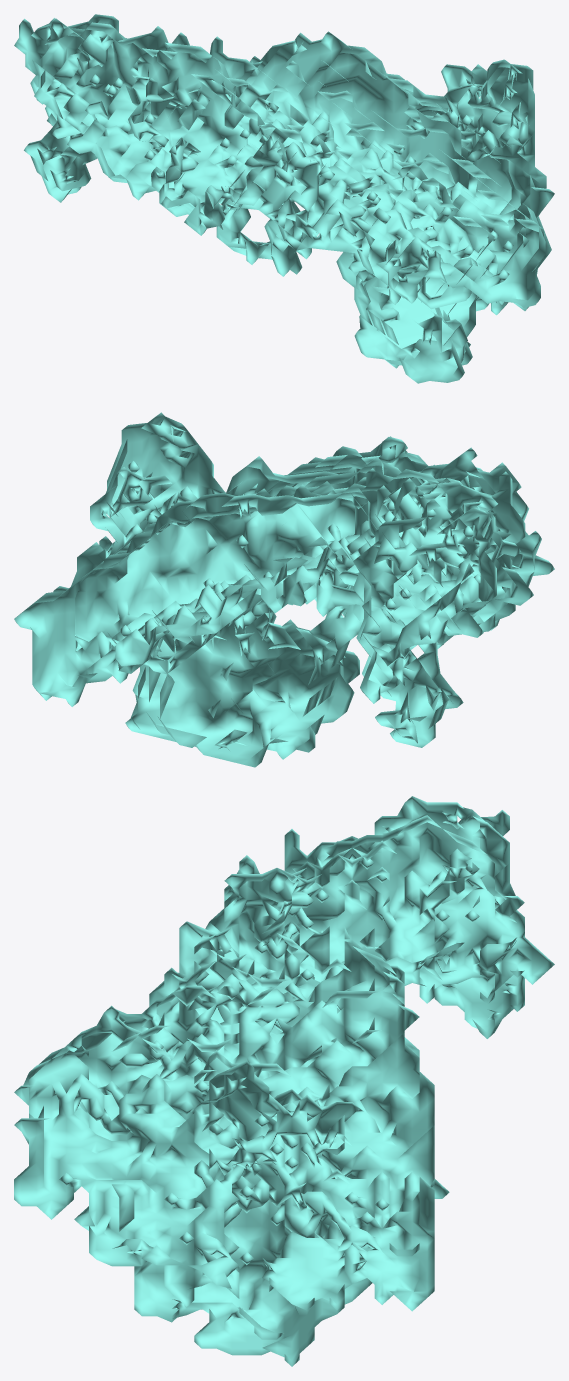
File: osteocyte_142.glb
3 views of the same model, one above another, from view 1: azimuth 30°, elevation 25°; view 2: azimuth 150°, elevation 25°; view 3: azimuth 270°, elevation 25° (orthographic). The views are drawn at different scales.
Visible parts, largest first — view 1: osteocyte_142; view 2: osteocyte_142; view 3: osteocyte_142.
Part boxes in pixels (box(x1,y1,x2,y2)): osteocyte_142: box(14, 14, 554, 383); osteocyte_142: box(14, 412, 554, 767); osteocyte_142: box(14, 796, 554, 1366).
Size of the model in its own units: 18.78 by 13.48 by 17.33.
